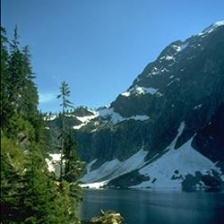neutral: (2, 13, 223, 224)
